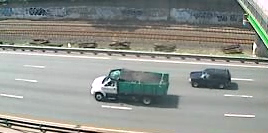car: (87, 66, 173, 107), (186, 66, 232, 90)
